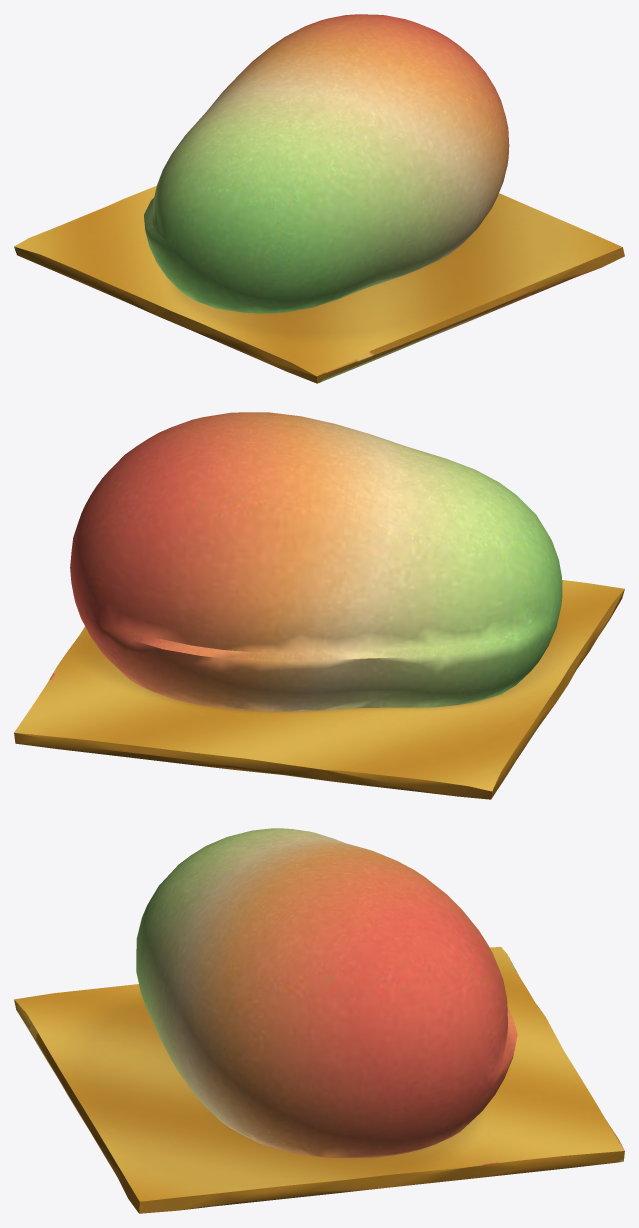
Rendered from prop_mango_entrement.glb.
3 views of the same model, one above another, from view 1: azimuth 30°, elevation 25°; view 2: azimuth 150°, elevation 25°; view 3: azimuth 270°, elevation 25° (orthographic). The views are drawn at different scales.
Parts seen in each view (by area): view 1: Mousse, Board; view 2: Mousse, Board; view 3: Mousse, Board.
Part boxes in pixels (x1,y1,x2,y2): Mousse: (144,14,509,313); Board: (14,186,624,383); Mousse: (70,412,562,711); Board: (14,580,624,799); Mousse: (136,828,517,1157); Board: (14,947,624,1213).
Bounding box in the file's own units: 0.1358 × 0.0587 × 0.1355.
Materials: 1 (1 with a texture image).
